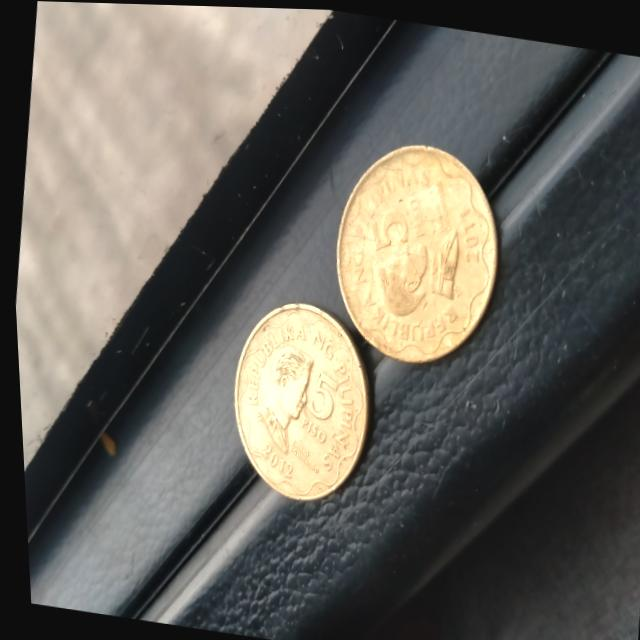5_Old_Front: (358, 177, 437, 260), (284, 361, 347, 448)
